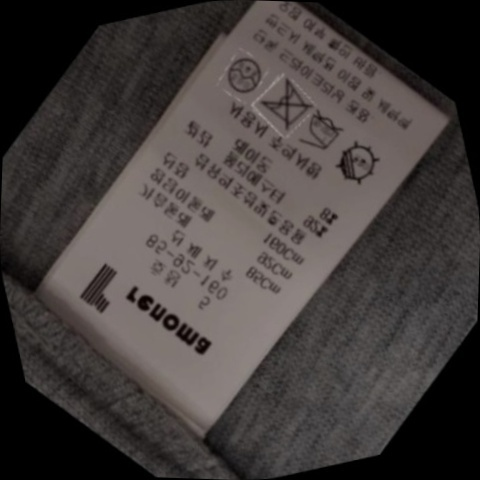DN_wash: (251, 76, 316, 134)
dry_clean_petrol_only: (217, 49, 268, 99)
iron_low: (294, 107, 351, 159)
line_dry_in_shade: (324, 137, 385, 192)
